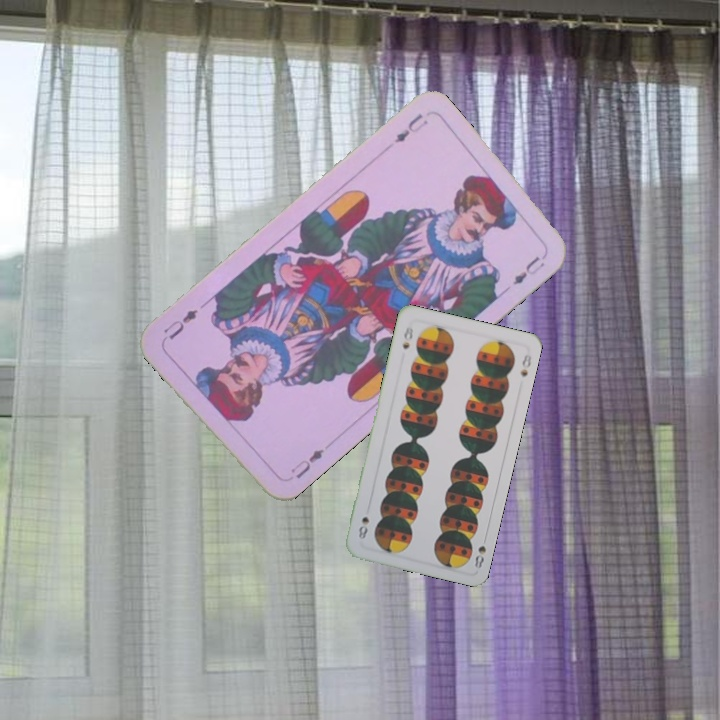EU: (286, 444, 327, 482), (391, 110, 431, 146)
S8: (470, 531, 490, 571), (398, 322, 416, 352)
